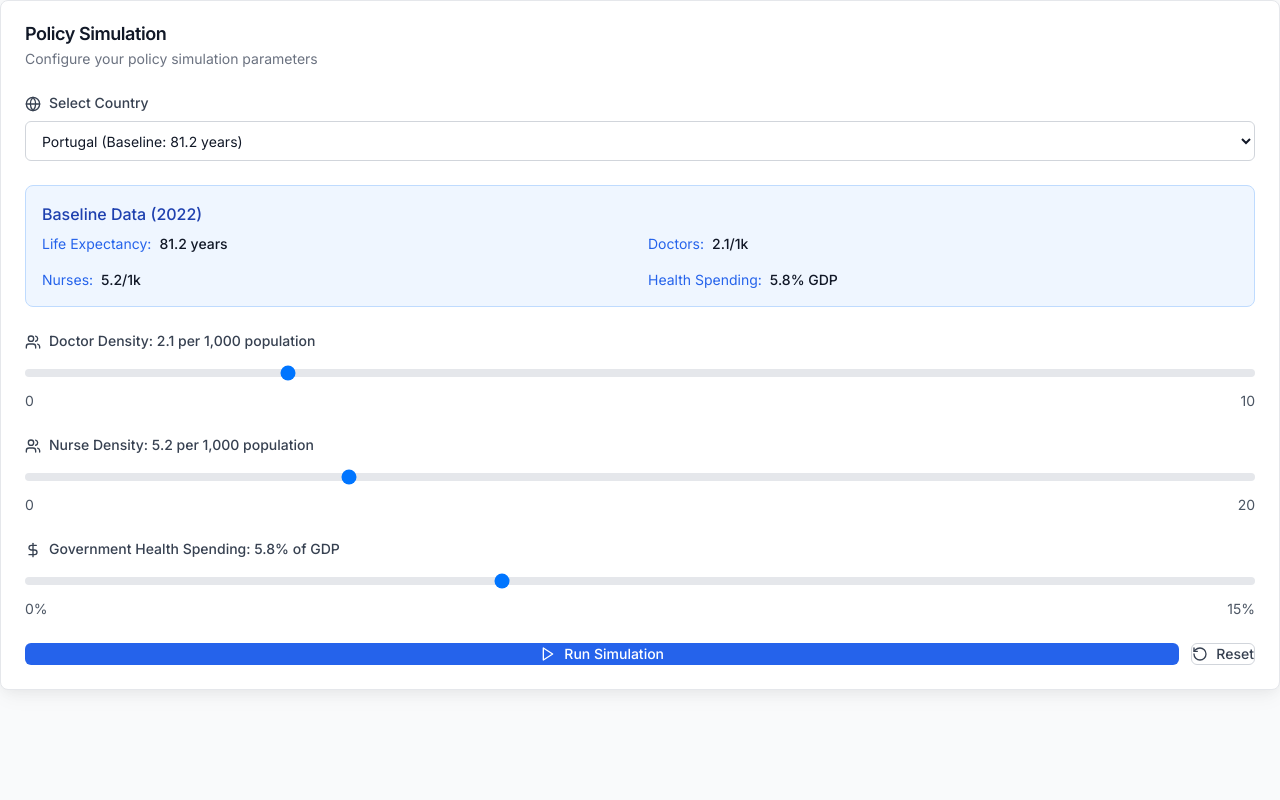
Scenario: SimulationCardNew › resets parameters when reset button is clicked
Expected: the text "Doctor Density: 2.1 per 1,000 population" is shown, [25, 332, 315, 350]
// Change a parameter
Set the slider showing "2.1" below "Doctor Density:" to "3.0" at (397, 373), box [25, 369, 1255, 377]
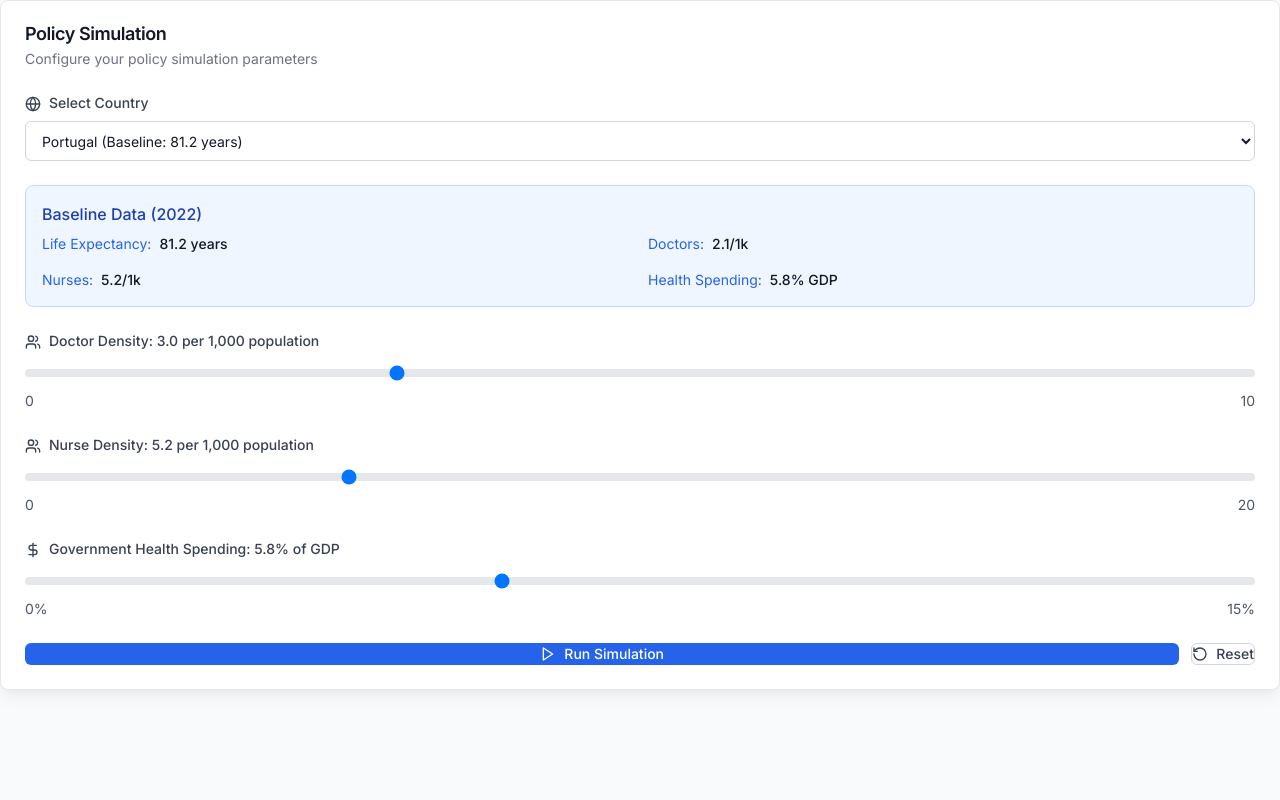
Now the text "Doctor Density: 3.0 per 1,000 population" is shown, box [25, 332, 319, 350]
Click the button "Reset" at (1223, 654), box [1191, 643, 1255, 665]
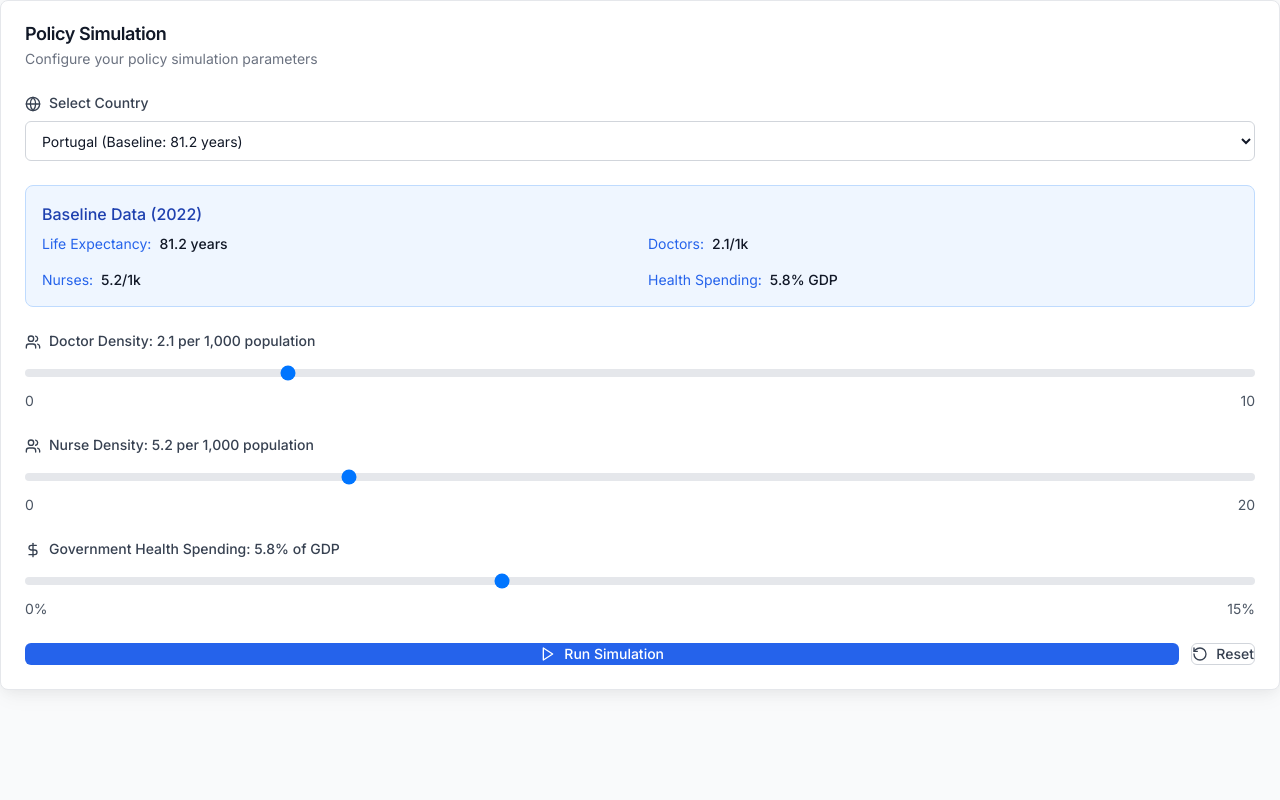
Now the text "Doctor Density: 2.1 per 1,000 population" is shown, box [25, 332, 315, 350]
